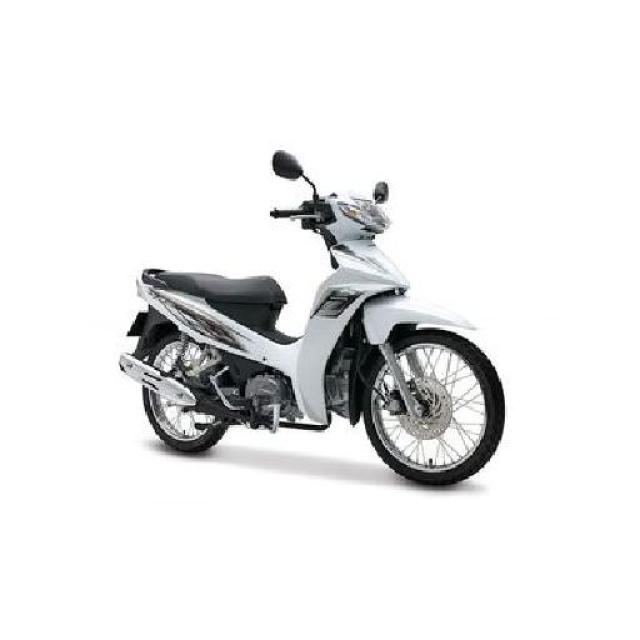All: (111, 140, 507, 489)
Head: (267, 182, 398, 250)
Tail: (134, 254, 189, 310)
